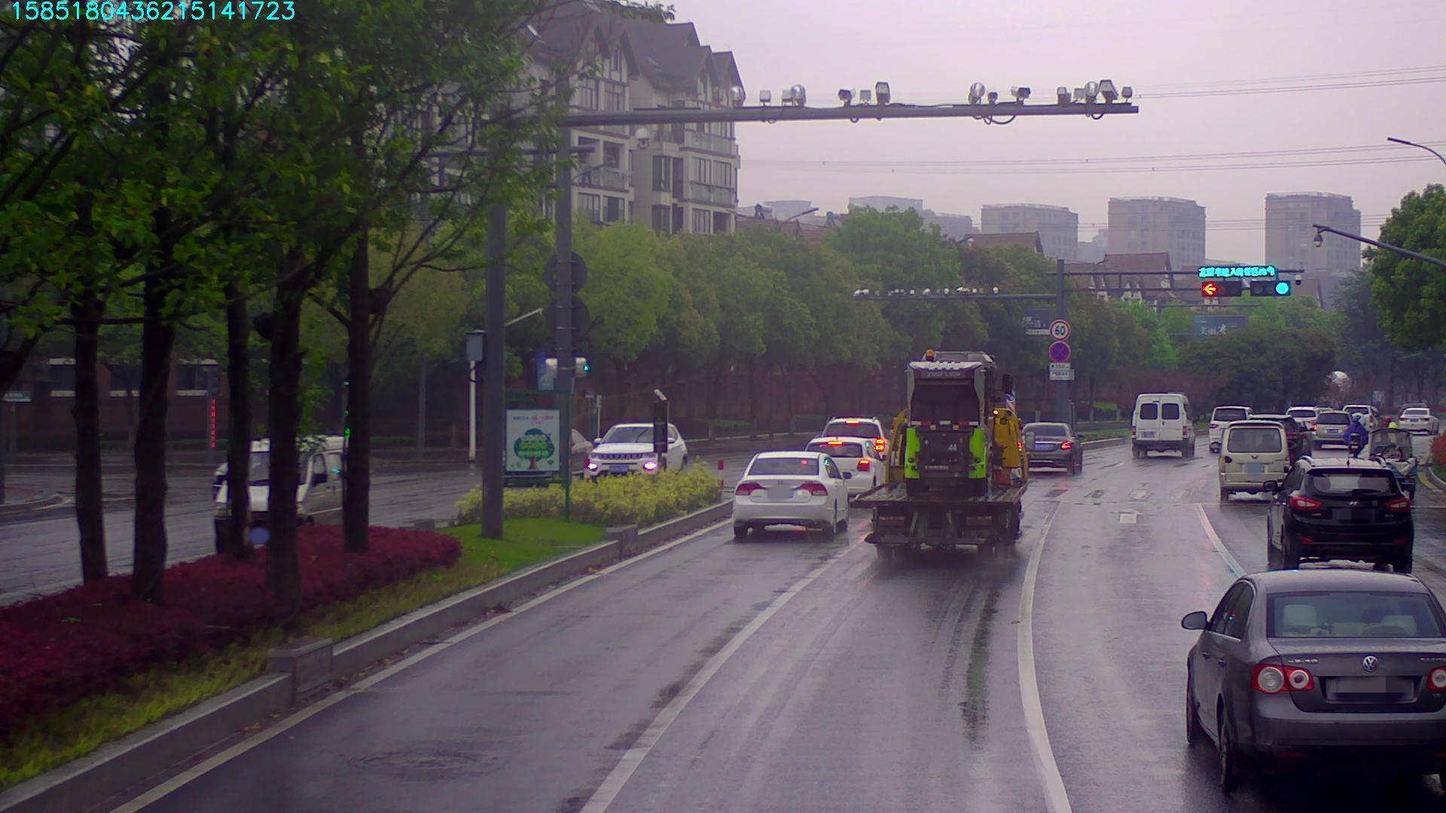green: (1251, 282, 1298, 299)
red: (1201, 282, 1239, 301)
wait_on: (1194, 266, 1280, 279)
